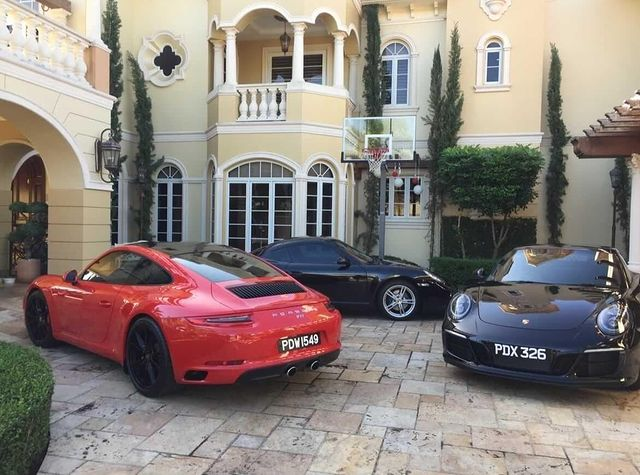License-Plate: (493, 342, 549, 356), (279, 340, 319, 352)
